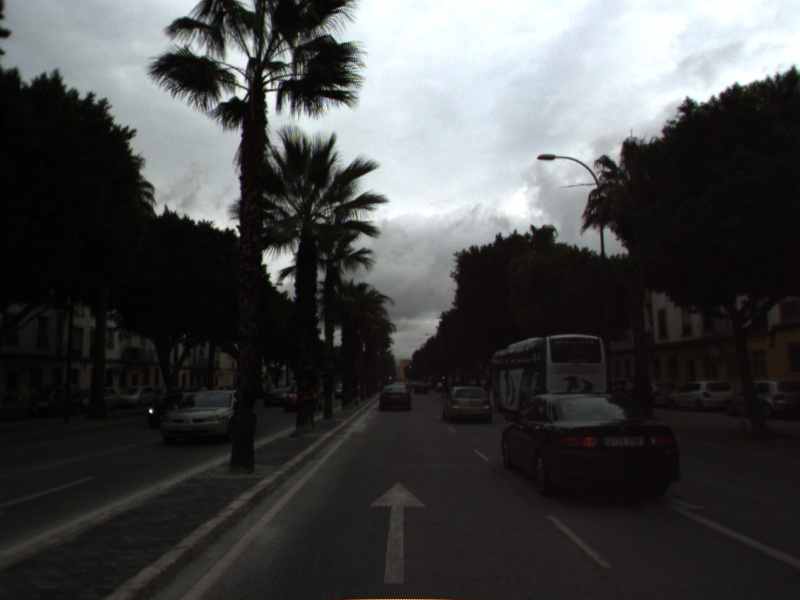STRAIGHT: (640, 492, 800, 570), (367, 479, 429, 585)
